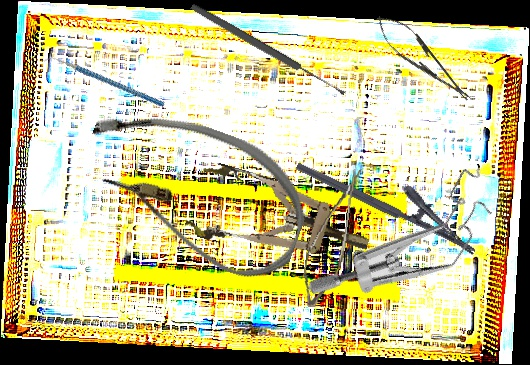Cannula: (63, 90, 324, 291)
Chopper: (40, 21, 166, 143)
Micro Scissor: (299, 161, 362, 312)
Needle Holder: (295, 137, 488, 257), (367, 6, 479, 111)
Speculum: (303, 122, 513, 354), (182, 158, 379, 283)
Surgical Spoon: (189, 1, 347, 99)
